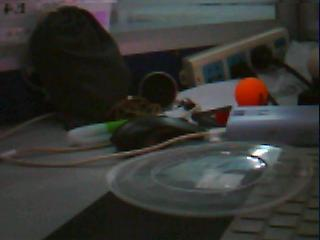oball: (235, 78, 266, 104)
